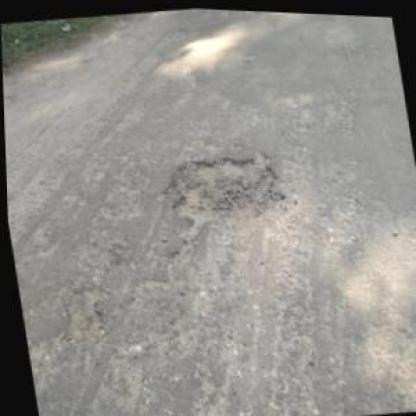pothole: (160, 141, 292, 240), (58, 286, 110, 341)
